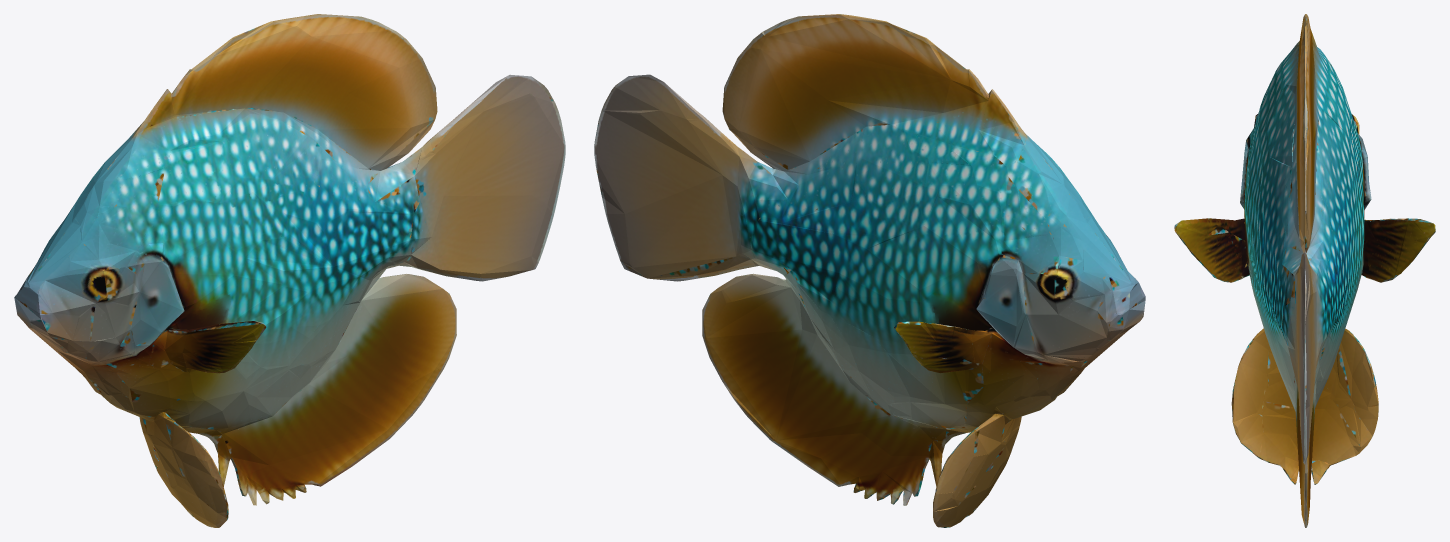
The model's file is fish_0060_smpl23_resized.glb.
3 views of the same model, side by side, from view 1: azimuth 30°, elevation 25°; view 2: azimuth 150°, elevation 25°; view 3: azimuth 270°, elevation 25° (orthographic).
Visible parts, largest first — view 1: world; view 2: world; view 3: world.
Boxes of the visible parts, <box> form: world: <box>14,14,565,527</box>; world: <box>594,14,1145,527</box>; world: <box>1174,14,1435,527</box>.
Bounding box in the file's own units: 1.99 × 1.71 × 0.8326.
Materials: 1 (1 with a texture image).
